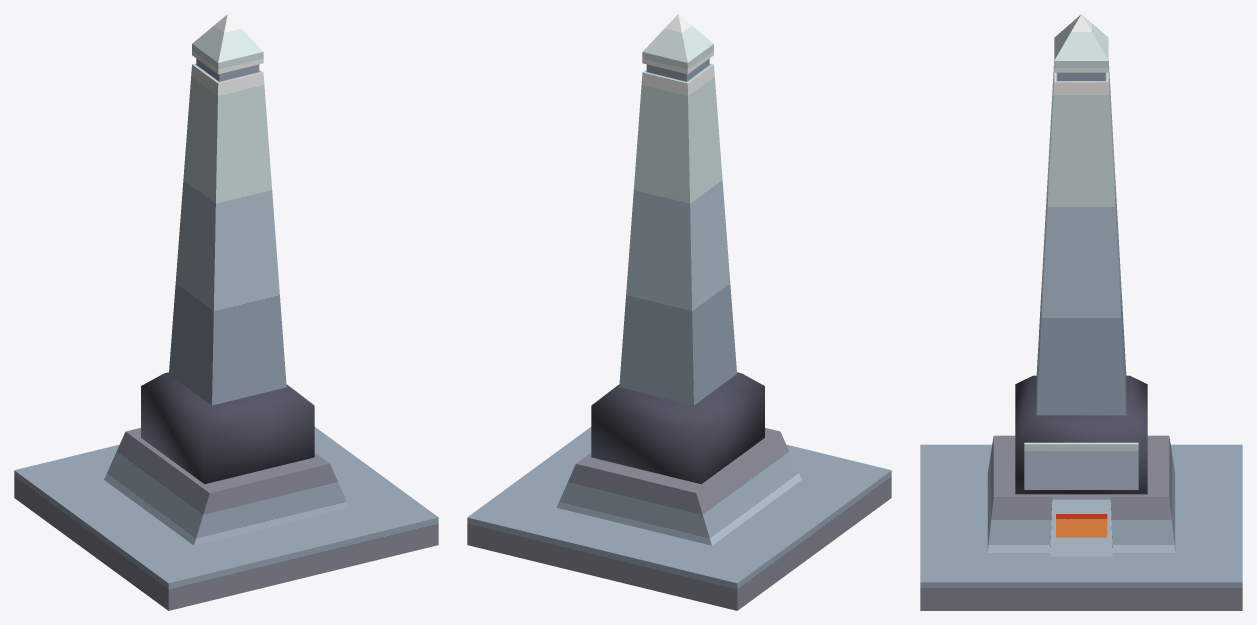
Rendered from pilar.fbx.
3 renders of one model, left to right at view 1: azimuth 30°, elevation 25°; view 2: azimuth 150°, elevation 25°; view 3: azimuth 270°, elevation 25°, orthographic. The views are drawn at different scales.
Visible parts, largest first — view 1: pilar; view 2: pilar; view 3: pilar.
Boxes of the visible parts, x1,y1,x2,y2 form: pilar: [14, 14, 438, 610]; pilar: [467, 14, 891, 610]; pilar: [920, 14, 1242, 610].
Bounding box in the file's own units: 1209 × 2169 × 1197.
